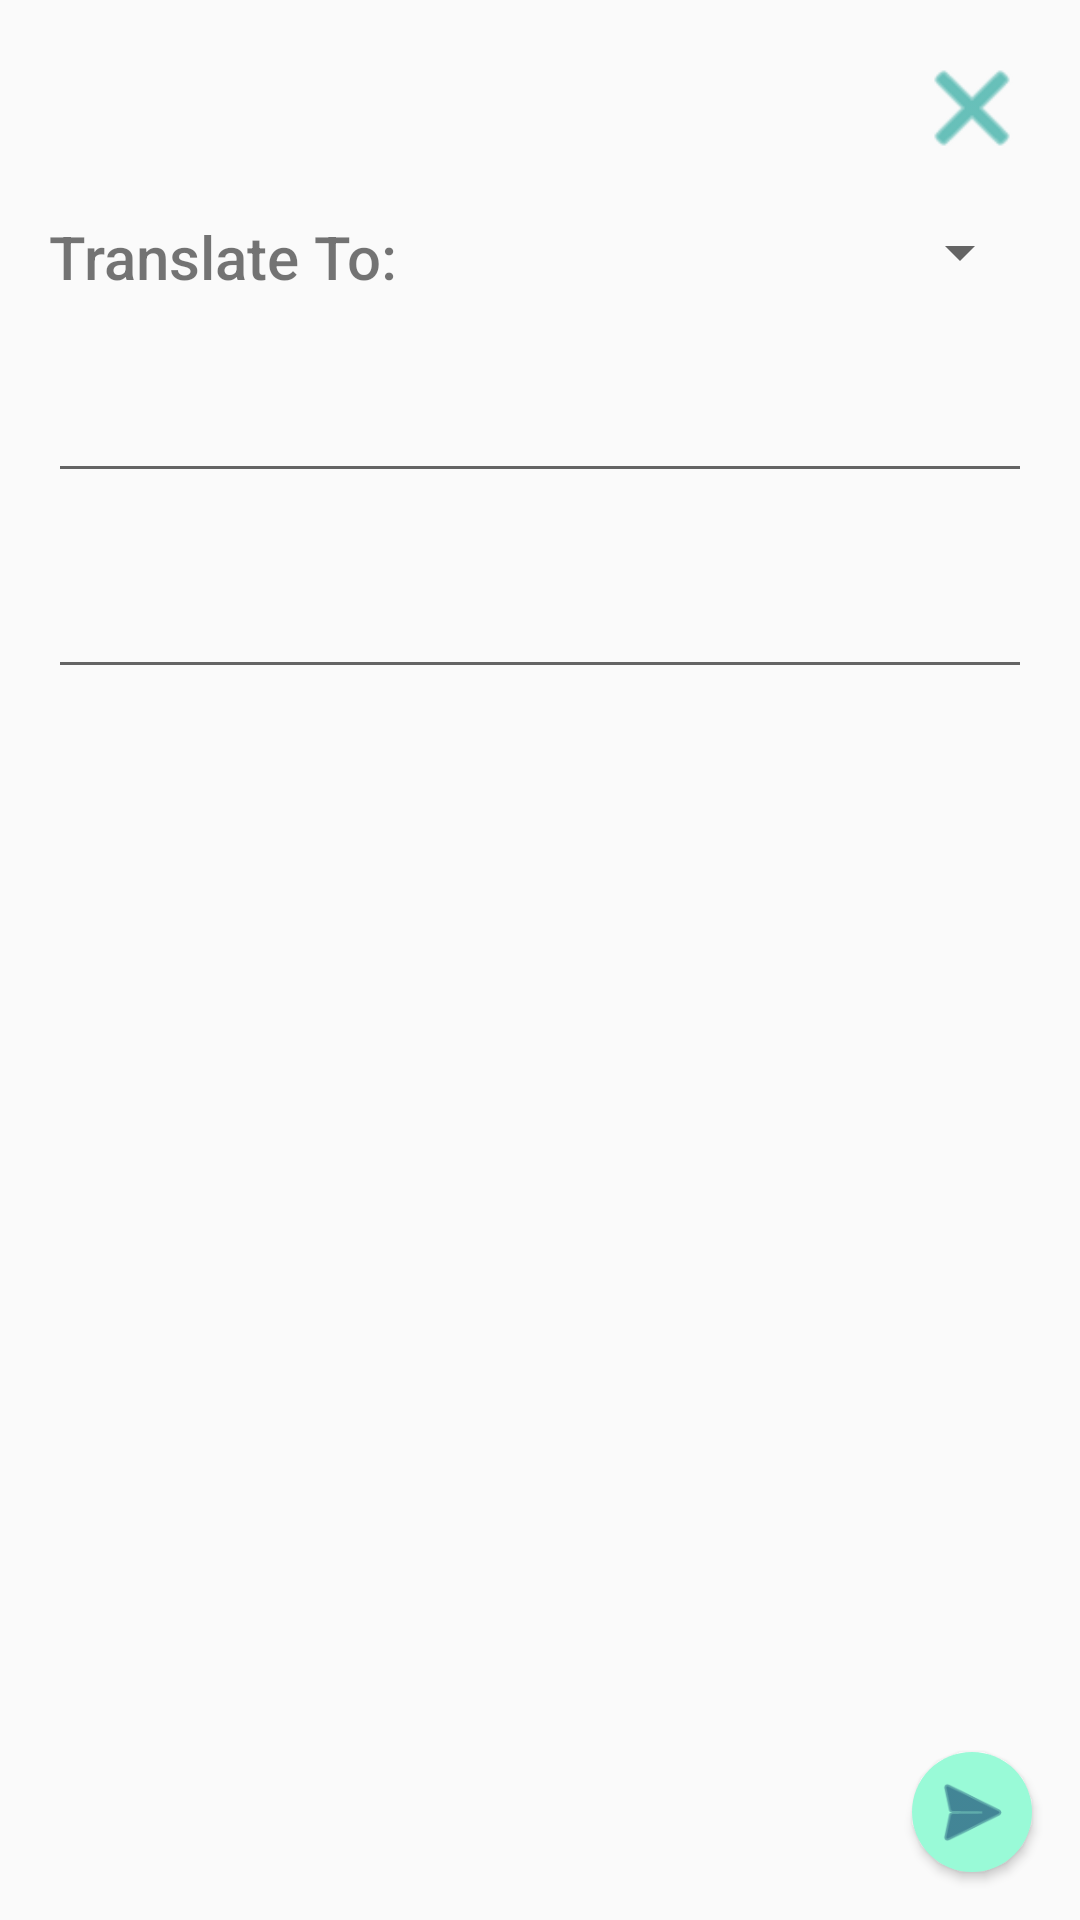

Icon bounding boxes for this 1080×1920 phone screenshot, format (x1, y1, x2, y2):
close clear cancel: (934, 70, 1010, 146)
